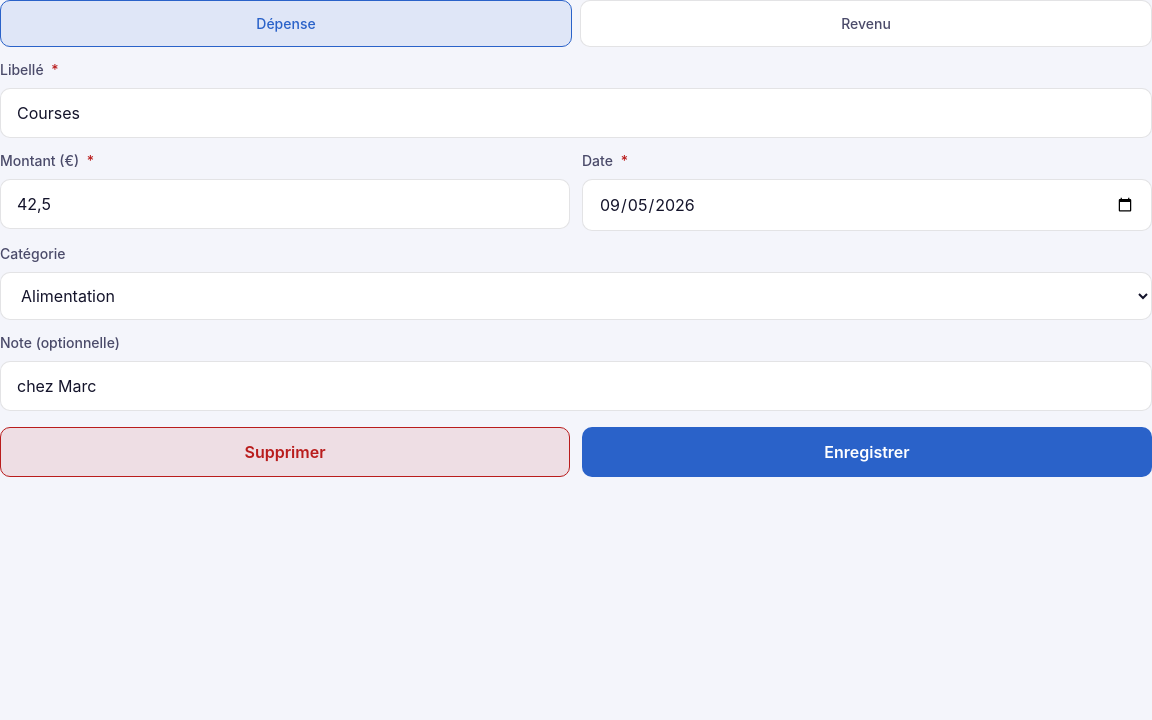
Test: TransactionForm — suppression › demande confirmation avant de supprimer
The width and height of the screenshot is (1152, 720).
What coordinates should you click on to do the following:
click the button "Supprimer"
I would click on:
 (285, 452)
Its box is 0,427 -> 570,477.
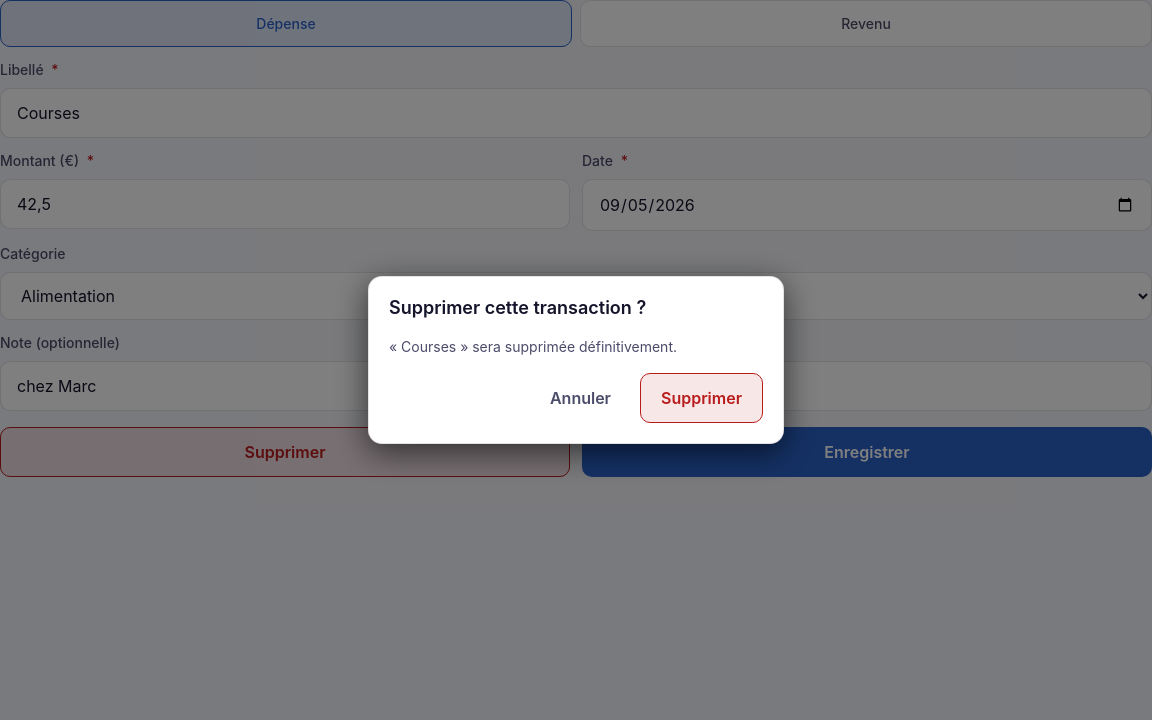
Result: the dialog shows "Supprimer cette transaction ?" at 389,297 -> 646,318
Result: the dialog shows "Courses" at 389,338 -> 677,355
